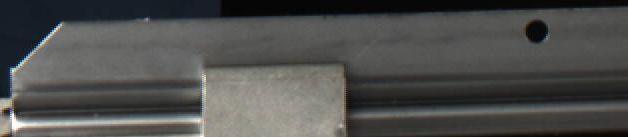cut: (5, 15, 178, 137)
holes: (523, 18, 549, 43)
